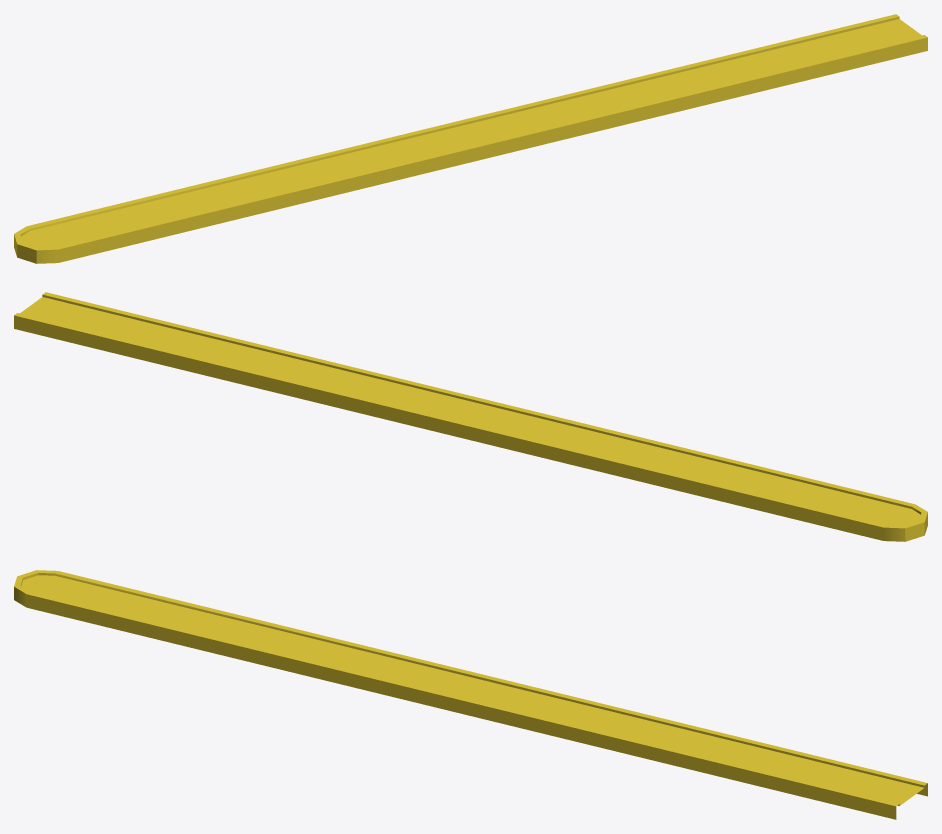
File: Park_Lines_01a.fbx
3 views of the same model, one above another, from view 1: azimuth 30°, elevation 25°; view 2: azimuth 150°, elevation 25°; view 3: azimuth 330°, elevation 25° (orthographic).
Visible parts, largest first — view 1: Park_Lines_01a; view 2: Park_Lines_01a; view 3: Park_Lines_01a.
Part boxes in pixels (<box>): Park_Lines_01a: <box>14,14,927,263</box>; Park_Lines_01a: <box>14,292,927,541</box>; Park_Lines_01a: <box>14,570,927,819</box>.
Size of the model in its own units: 877 by 12.59 by 54.01.
